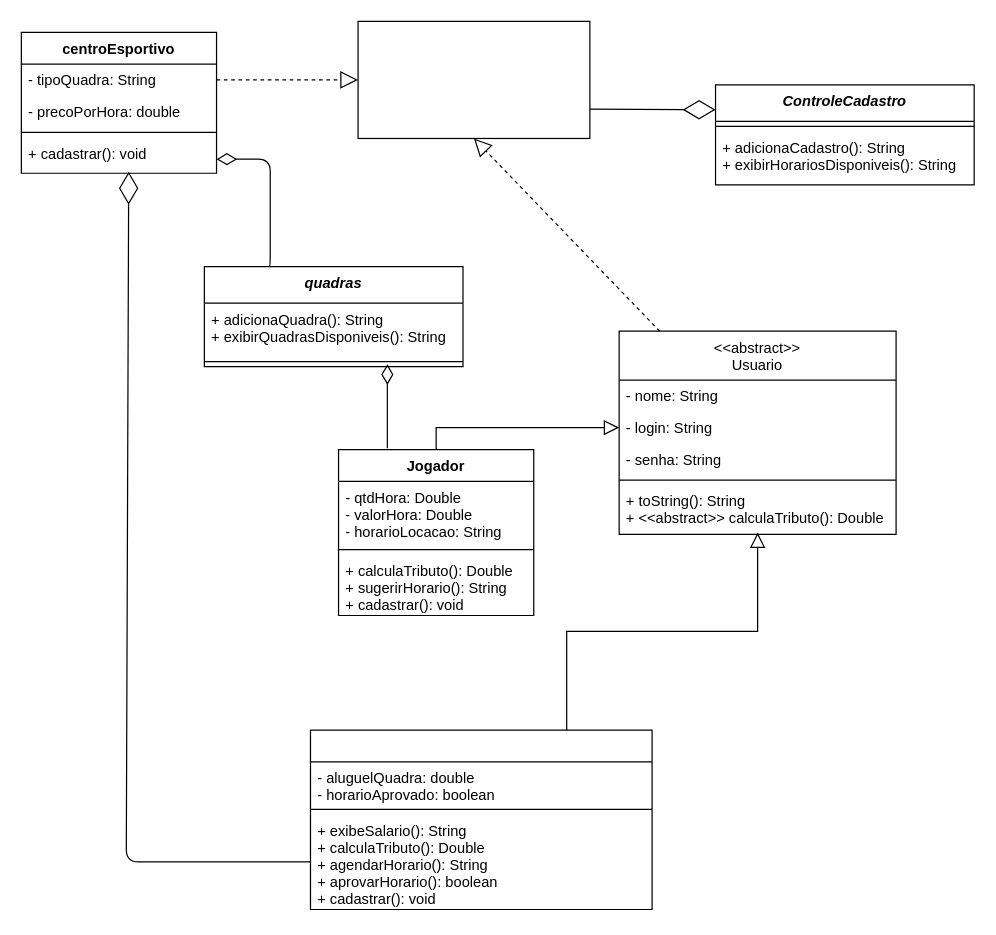
This 996x935 diagram has some shape labels left out. Each missing label, with the box of its shape:
<<Interface>> Cadastravel + cadastrar(): void: (357, 20, 590, 138)
Locatario: (309, 729, 652, 910)
